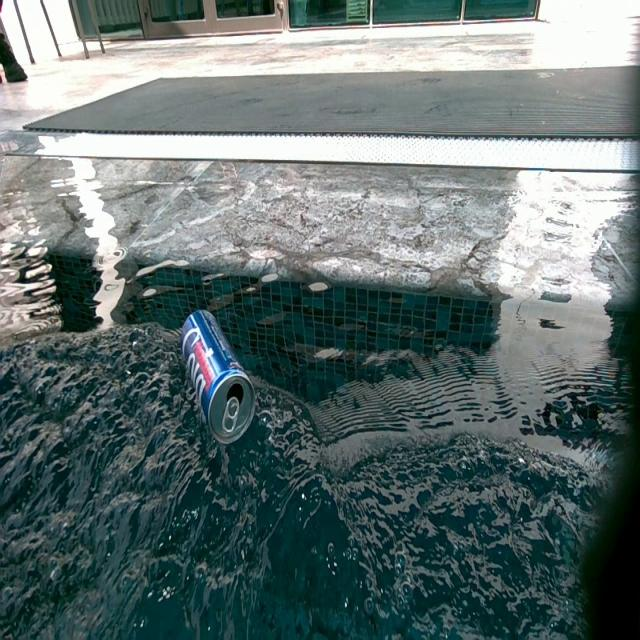Cans: (181, 309, 262, 443)
